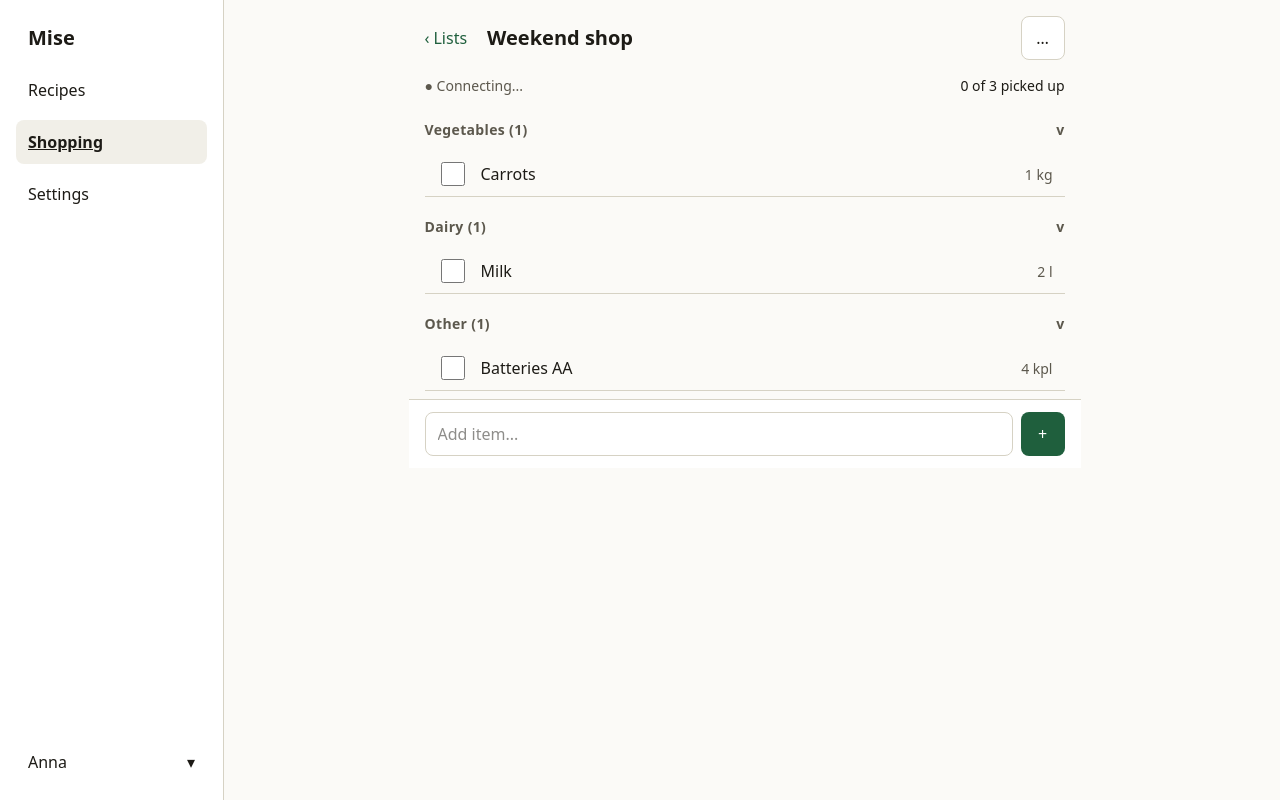
Test: list view fixes › FR-37: the Retry button names the item
expect the text "Carrots" is shown: met, box [480,162,536,186]
Click the 1st checkbox with test id "item-checkbox" at (452, 174), box [440,162,464,186]
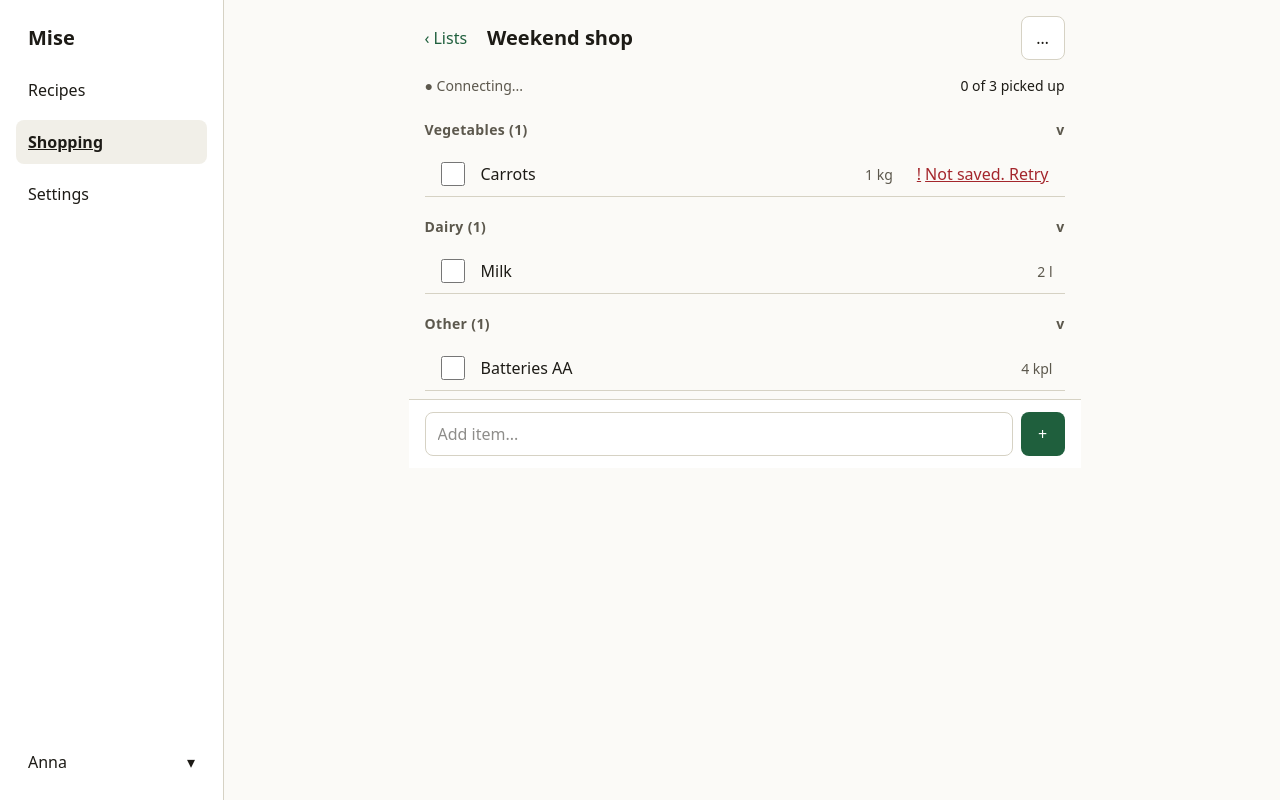
expect the button with aria-label "Not saved. Retry: Carrots" is shown: met, box [905,152,1060,196]
